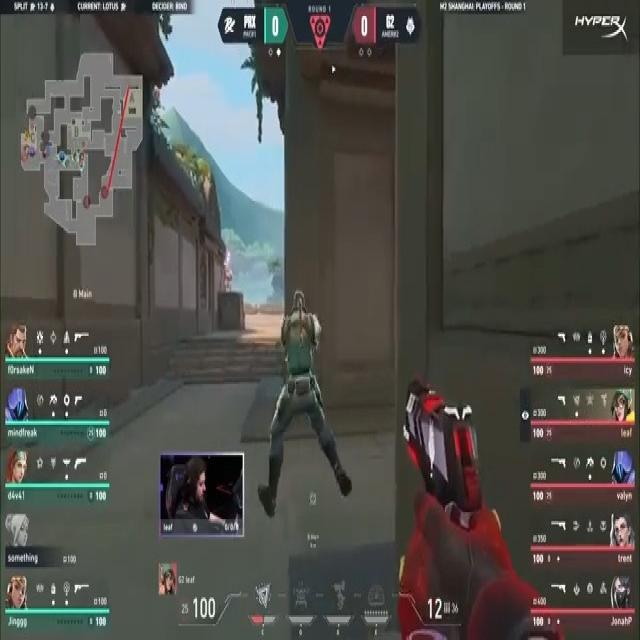ally: (258, 284, 359, 524)
